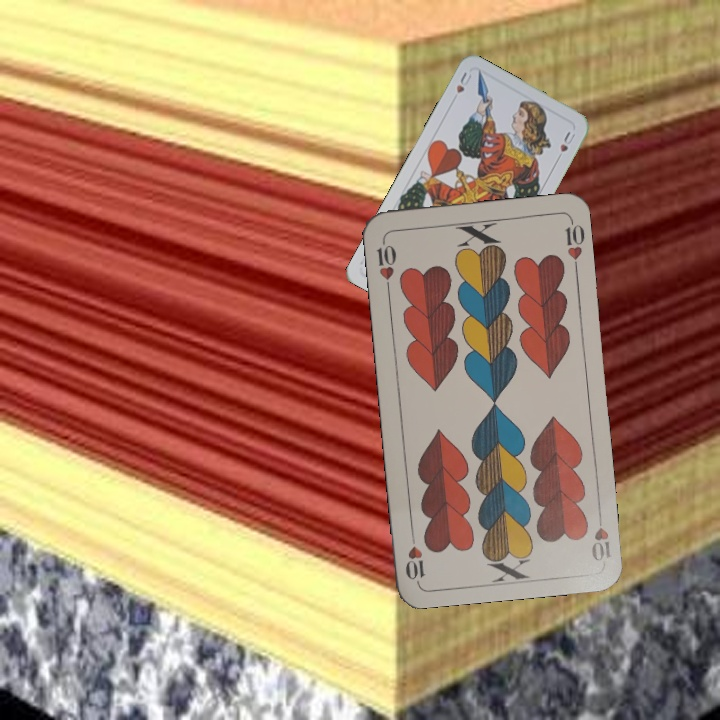H10: (587, 506, 614, 564), (373, 235, 399, 294)
HU: (452, 68, 476, 95)
